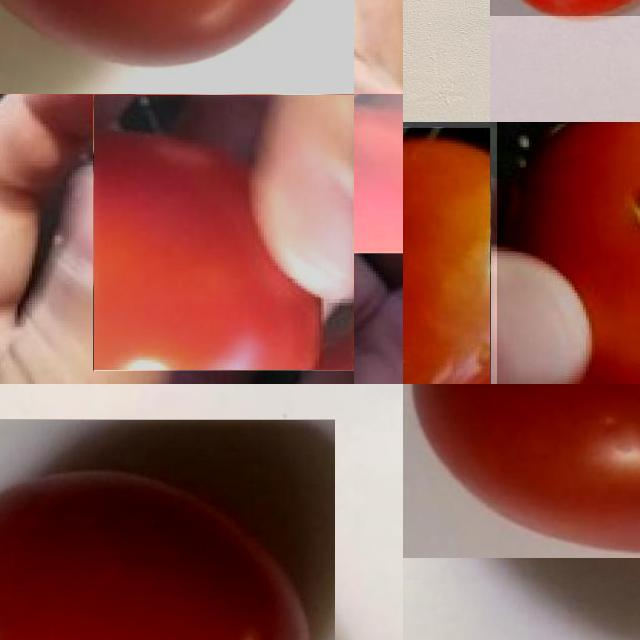Fresh Tomato: (0, 419, 335, 640), (93, 94, 354, 370), (403, 384, 640, 558), (0, 0, 354, 94), (354, 94, 403, 253)
Rotten Tomato: (497, 122, 640, 384), (403, 127, 490, 384)
